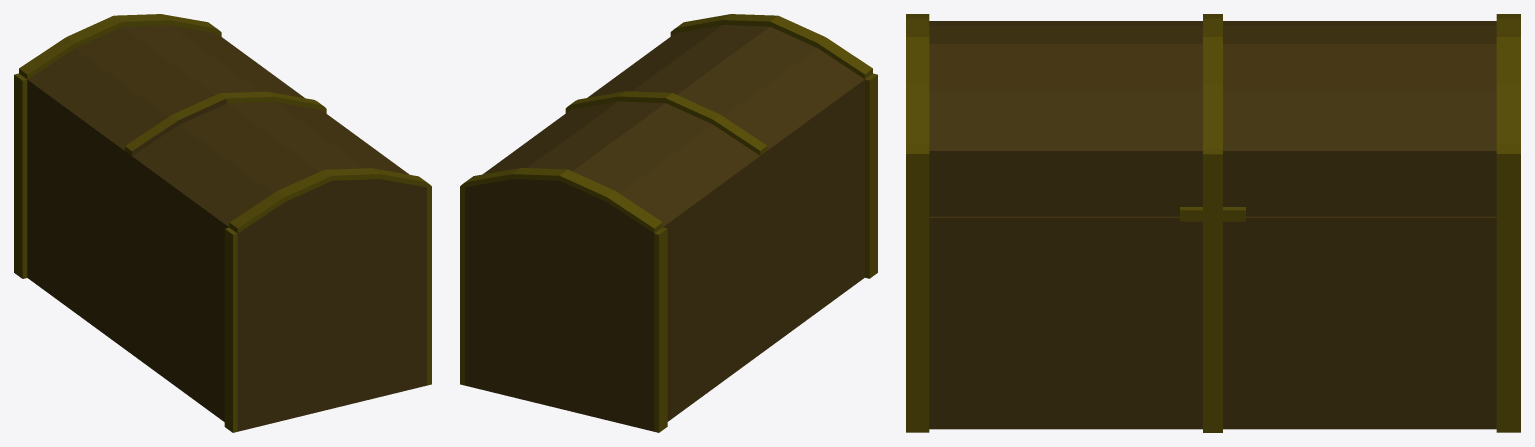
File: Chest.fbx
The picture shows the model from 3 angles, left to right: view 1: azimuth 30°, elevation 25°; view 2: azimuth 150°, elevation 25°; view 3: azimuth 270°, elevation 25°; orthographic projection. The views are drawn at different scales.
Parts seen in each view (by area): view 1: Chest; view 2: Chest; view 3: Chest.
Part boxes in pixels (box(x1,y1,x2,y2)): Chest: box(14, 14, 431, 432); Chest: box(460, 14, 877, 432); Chest: box(906, 14, 1520, 432).
Bounding box in the file's own units: 210 × 235 × 400.
